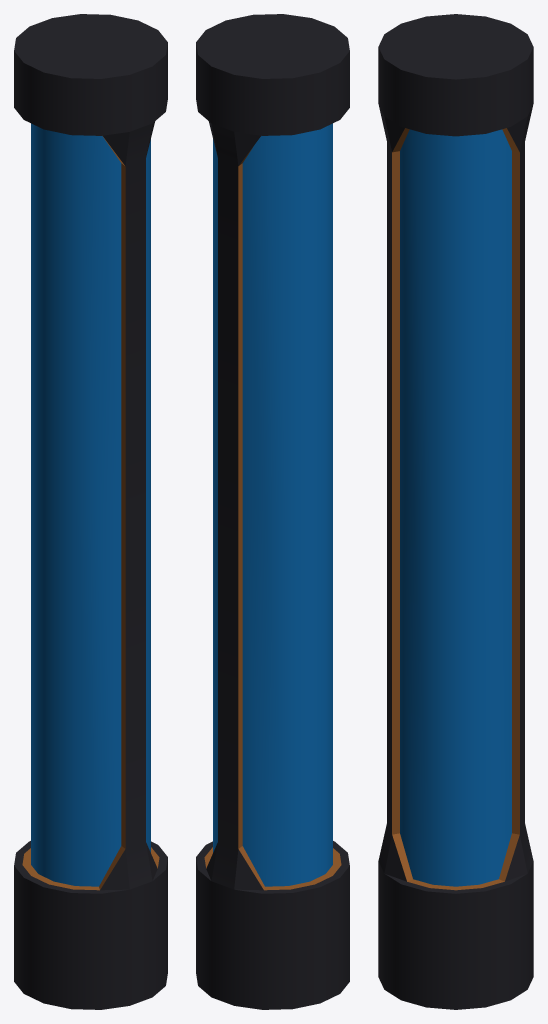
Rendered from 03_Indicador.fbx.
3 renders of one model, left to right at view 1: azimuth 30°, elevation 25°; view 2: azimuth 150°, elevation 25°; view 3: azimuth 270°, elevation 25°, orthographic.
Visible parts, largest first — view 1: IndicadorAzul; view 2: IndicadorAzul; view 3: IndicadorAzul.
Part boxes in pixels (x1,y1,x2,y2): IndicadorAzul: (14, 14, 167, 1009); IndicadorAzul: (196, 14, 349, 1009); IndicadorAzul: (378, 14, 533, 1009).
Bounding box in the file's own units: 111 × 732 × 111.
